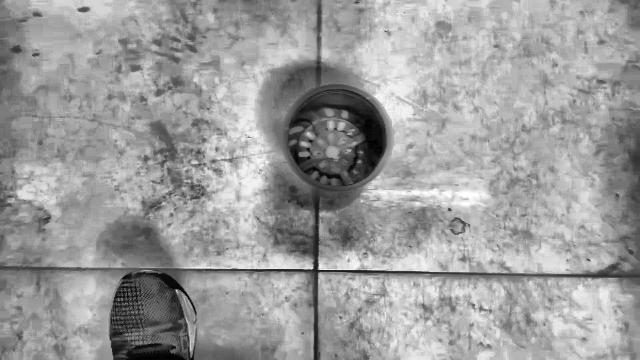pot: (281, 85, 391, 191)
